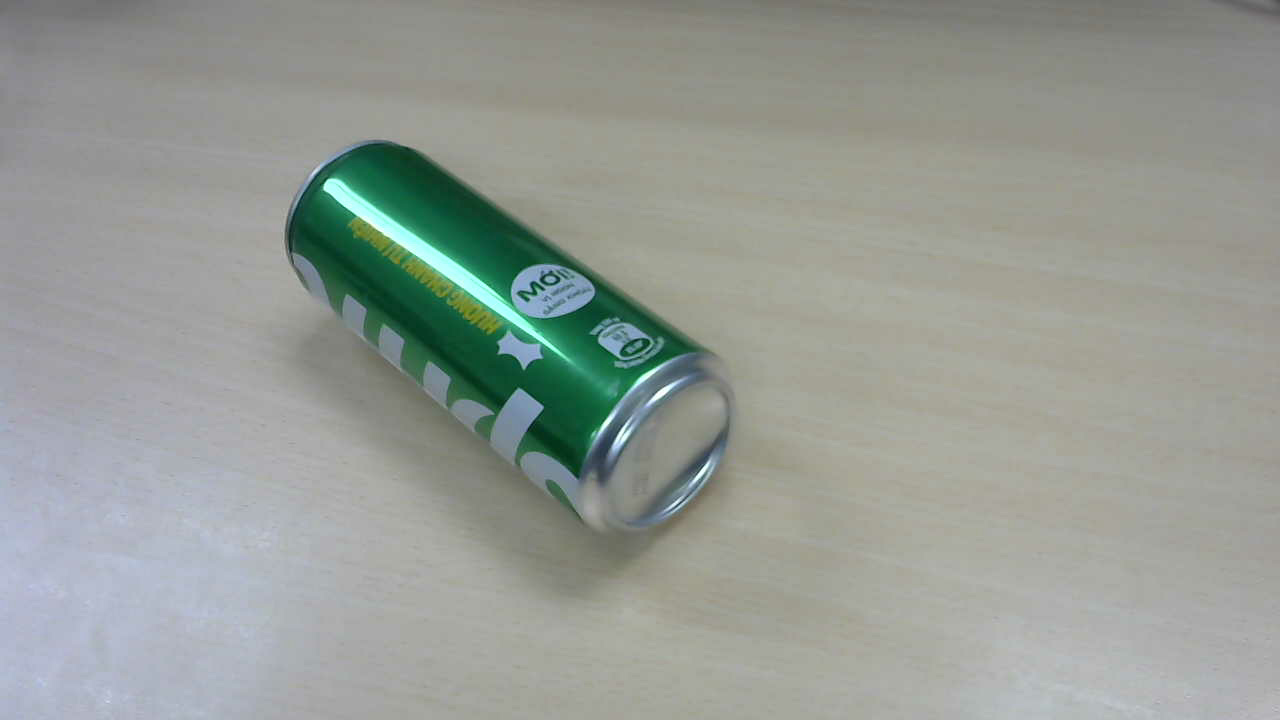Sprite: (294, 148, 738, 537)
